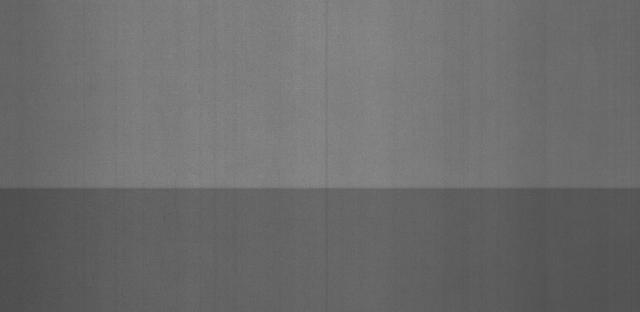welding_line: (4, 177, 640, 206)
